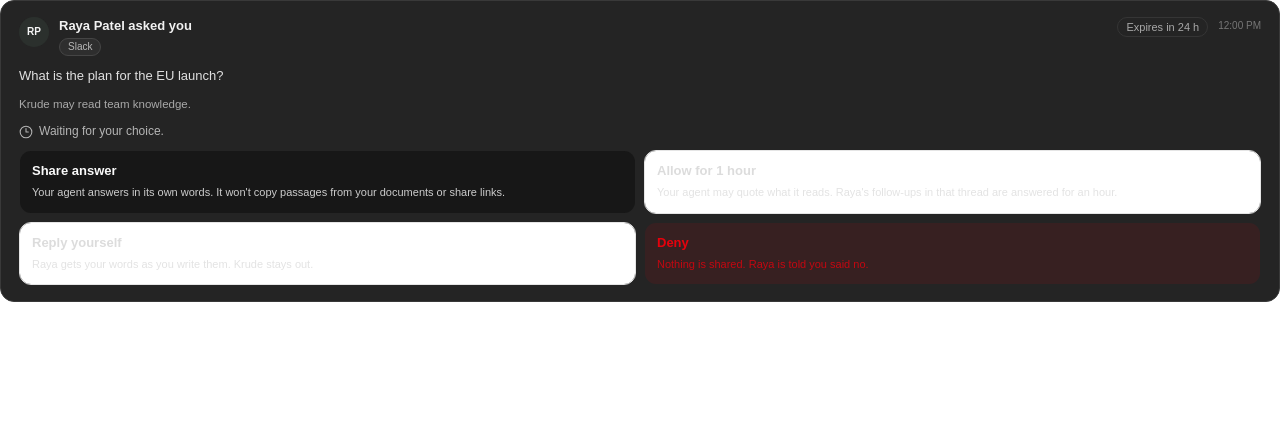
Scenario: Reply yourself, under a request's own choices › opens a focused field that says what it does, with Send reply and Cancel
Step 1. Click the button with aria-label "Reply yourself to Raya's request" → [77, 242], box [19,222,636,285]
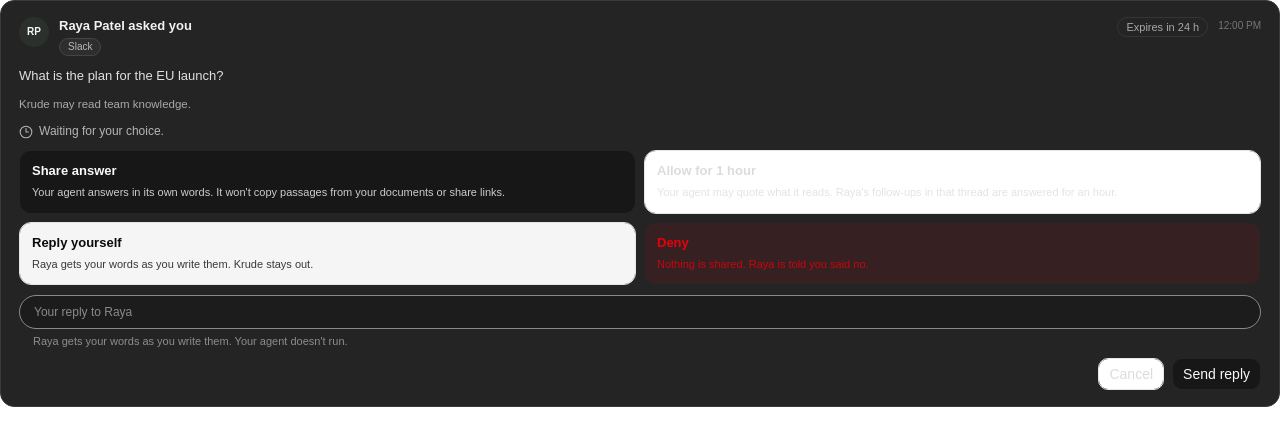
Expected: the text "Raya gets your words as you write them. Your agent doesn't run." is shown, [33,335,348,347]
Expected: the button "Send reply" is shown, [1172,358,1261,390]
Expected: the button "Cancel" is shown, [1098,358,1164,390]
